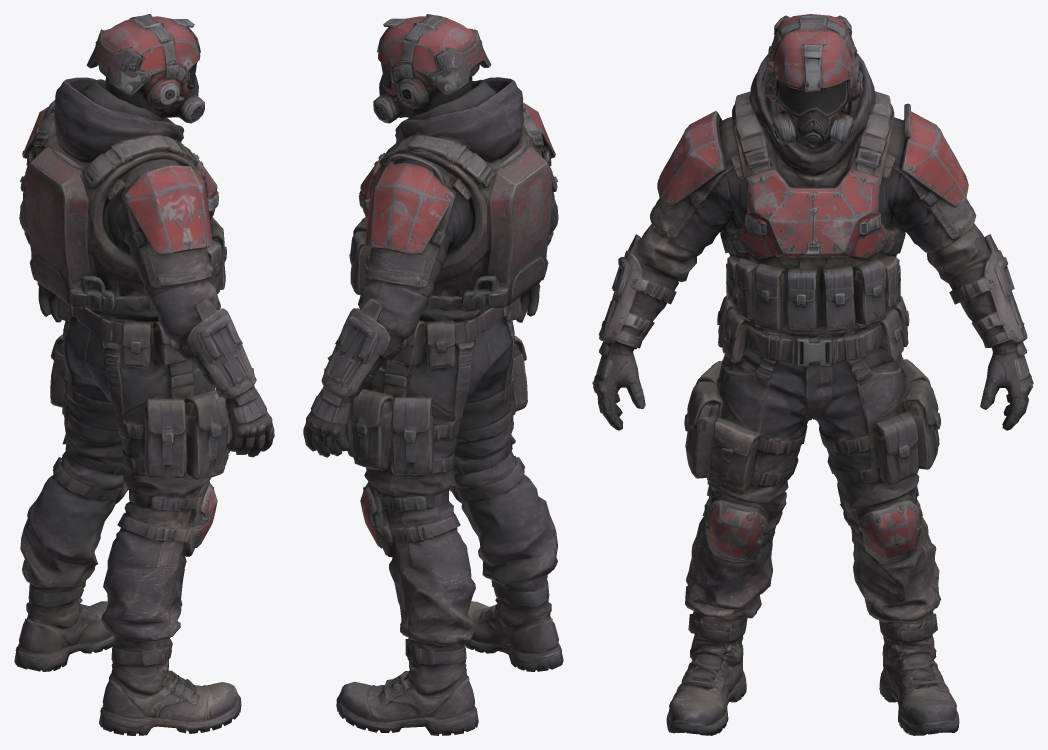
File: enemy-rifleman-v1.glb
3 views of the same model, side by side, from view 1: azimuth 30°, elevation 25°; view 2: azimuth 150°, elevation 25°; view 3: azimuth 270°, elevation 25° (orthographic). The views are drawn at different scales.
Visible parts, largest first — view 1: tripo_node_e3afc55e-767b-44c0-b900-8b32b0b339c5; view 2: tripo_node_e3afc55e-767b-44c0-b900-8b32b0b339c5; view 3: tripo_node_e3afc55e-767b-44c0-b900-8b32b0b339c5.
Boxes of the visible parts, bbox=[...] form: tripo_node_e3afc55e-767b-44c0-b900-8b32b0b339c5: bbox=[14, 14, 274, 735]; tripo_node_e3afc55e-767b-44c0-b900-8b32b0b339c5: bbox=[303, 14, 563, 735]; tripo_node_e3afc55e-767b-44c0-b900-8b32b0b339c5: bbox=[592, 14, 1033, 735].
Bounding box in the file's own units: 0.262 × 0.9788 × 0.5543.
Materials: 1 (1 with a texture image).
